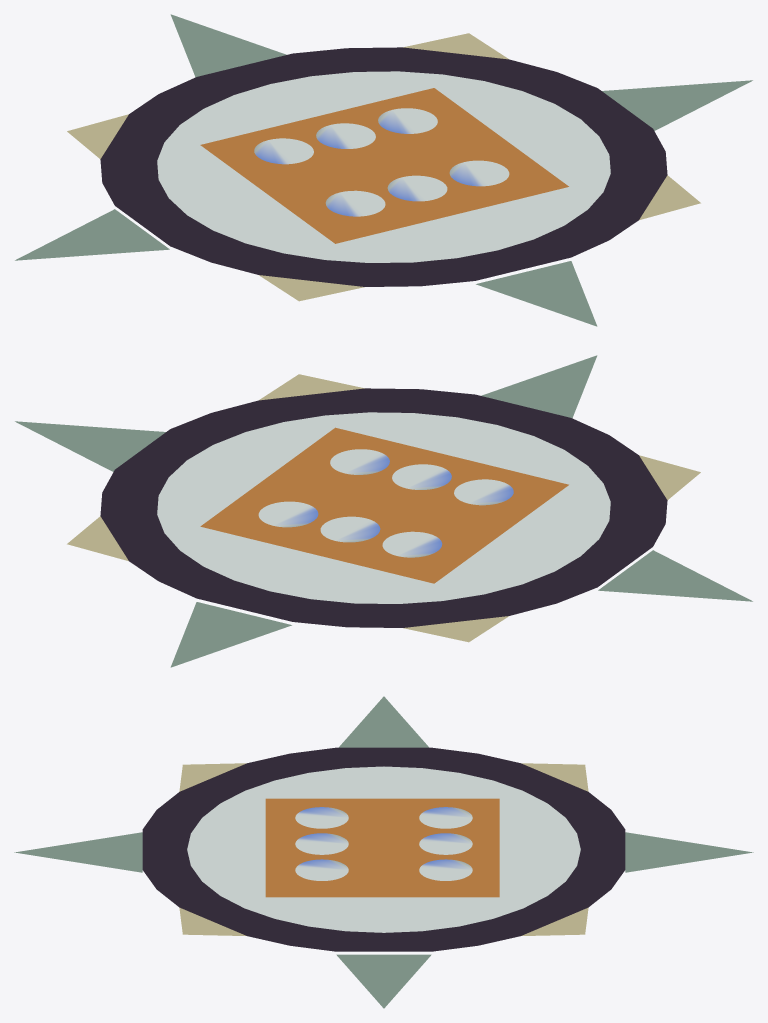
3 renders of one model, top to bottom at view 1: azimuth 30°, elevation 25°; view 2: azimuth 150°, elevation 25°; view 3: azimuth 270°, elevation 25°, orthographic. The views are drawn at different scales.
Visible parts, largest first — view 1: CircleRing, Dice, BigArrow.001, BigArrow, BigArrow.003, BigArrow.002, DiceFace.001, DiceFace.002, DiceFace, DiceFace.003, DiceFace.005, DiceFace.004; view 2: CircleRing, Dice, BigArrow.001, BigArrow.002, BigArrow.003, BigArrow, DiceFace.004, DiceFace.003, DiceFace.005, DiceFace, DiceFace.002, DiceFace.001; view 3: CircleRing, Dice, BigArrow.002, BigArrow, BigArrow.003, BigArrow.001, DiceFace, DiceFace.001, DiceFace.003, DiceFace.004, DiceFace.005, DiceFace.002.
Boxes of the visible parts, box(x1,y1,x2,y2) form: CircleRing: box(67, 33, 700, 301); Dice: box(200, 88, 568, 243); BigArrow.001: box(15, 209, 169, 260); BigArrow: box(476, 261, 597, 326); BigArrow.003: box(602, 80, 752, 130); BigArrow.002: box(170, 14, 286, 77); DiceFace.001: box(387, 175, 447, 201); DiceFace.002: box(449, 160, 509, 186); DiceFace: box(325, 190, 385, 216); DiceFace.003: box(254, 138, 313, 164); DiceFace.005: box(378, 108, 437, 133); DiceFace.004: box(316, 123, 375, 148); CircleRing: box(67, 374, 700, 642); Dice: box(200, 427, 568, 583); BigArrow.001: box(598, 550, 752, 601); BigArrow.002: box(170, 602, 291, 667); BigArrow.003: box(15, 421, 165, 471); BigArrow: box(481, 355, 597, 418); DiceFace.004: box(320, 516, 380, 542); DiceFace.003: box(382, 531, 442, 557); DiceFace.005: box(258, 501, 318, 527); DiceFace: box(454, 479, 513, 505); DiceFace.002: box(330, 449, 389, 474); DiceFace.001: box(392, 464, 451, 489); CircleRing: box(142, 747, 625, 951); Dice: box(265, 798, 499, 897); BigArrow.002: box(625, 832, 753, 872); BigArrow: box(14, 832, 142, 872); BigArrow.003: box(336, 954, 431, 1008); BigArrow.001: box(339, 696, 428, 747); DiceFace: box(295, 807, 348, 828); DiceFace.001: box(295, 833, 348, 854); DiceFace.003: box(419, 807, 472, 828); DiceFace.004: box(419, 833, 472, 854); DiceFace.005: box(419, 859, 472, 880); DiceFace.002: box(295, 859, 348, 880).
Size of the model in its own units: 1194 by 13.31 by 1194.
